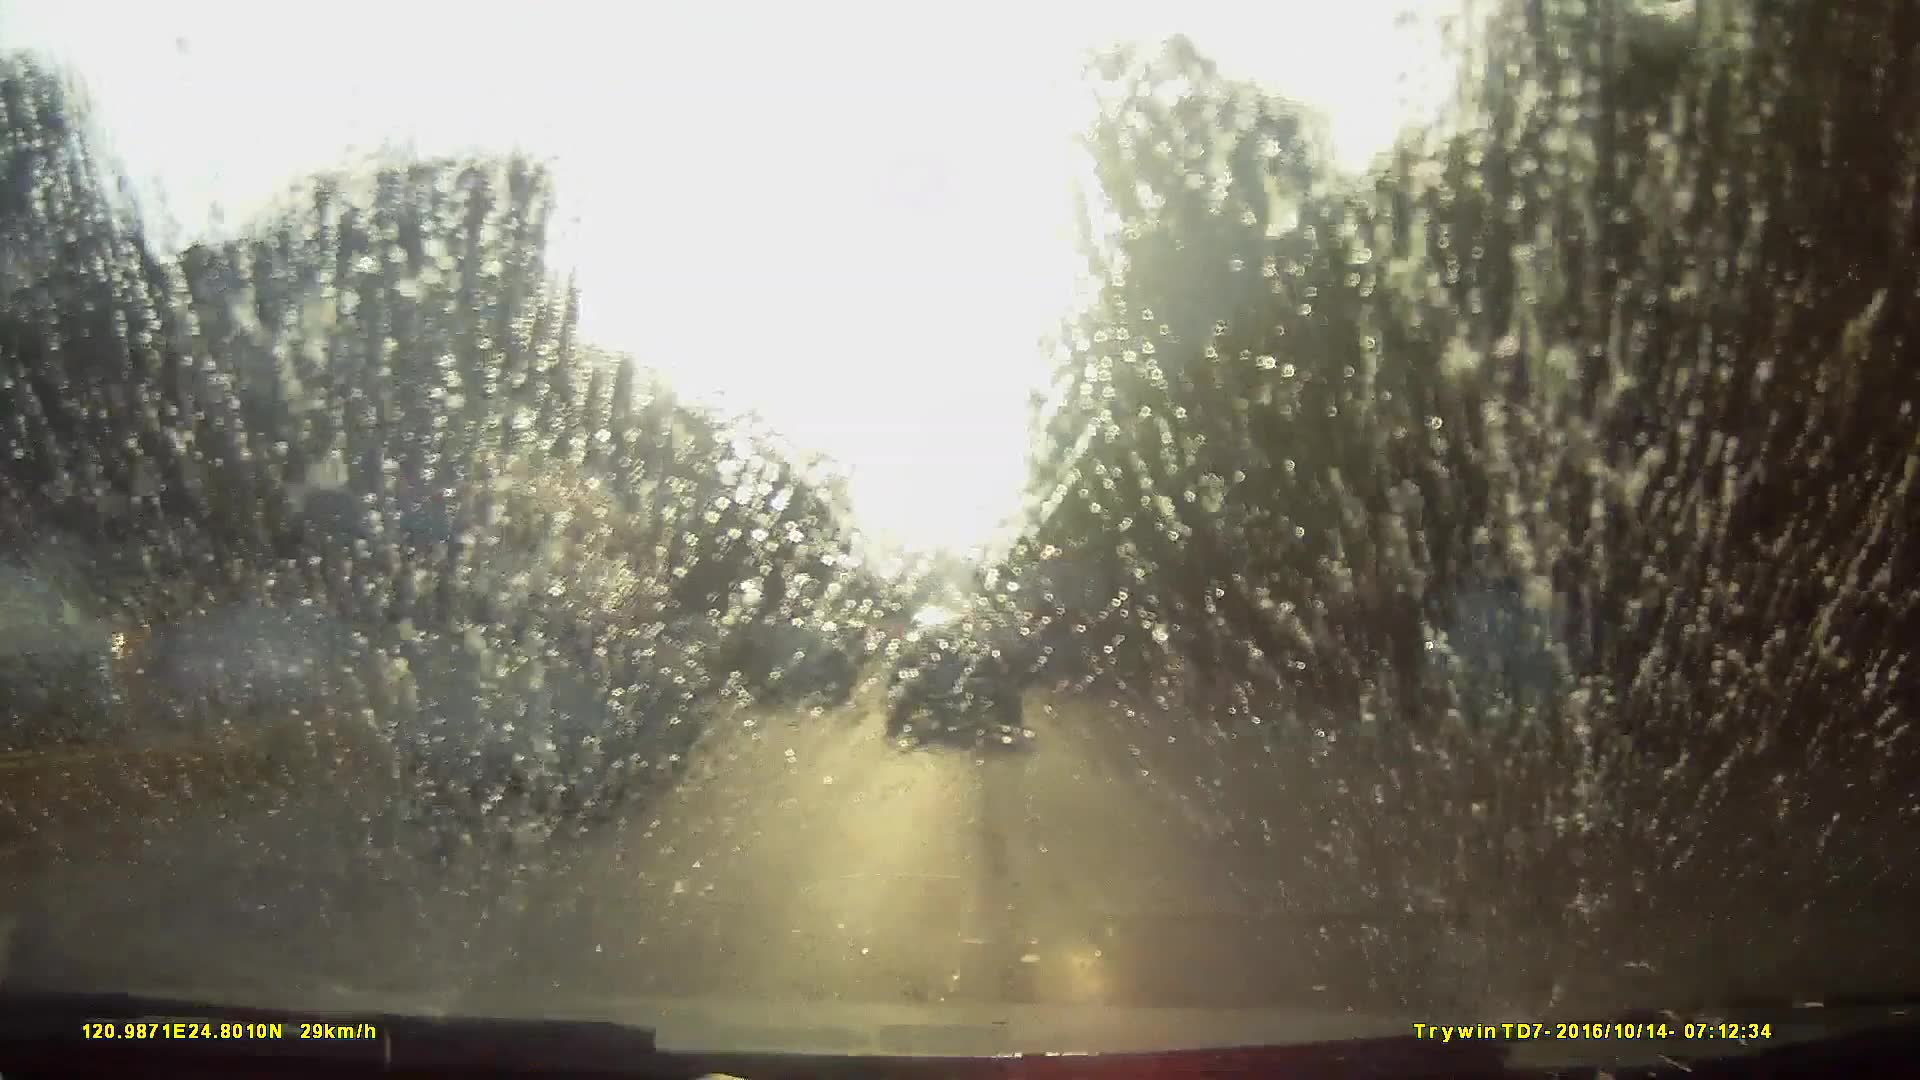vehicle: (251, 556, 684, 868), (251, 434, 663, 727), (400, 559, 705, 791), (887, 605, 1021, 742), (1004, 563, 1108, 688), (742, 622, 851, 708), (866, 638, 915, 687)
